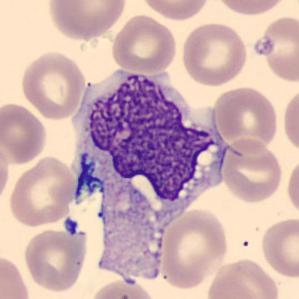Monocyte: (64, 67, 237, 283)
Platelets: (252, 35, 275, 58), (62, 217, 80, 236)
RBC: (158, 207, 230, 291), (7, 154, 78, 228), (18, 49, 88, 121), (21, 224, 90, 293), (179, 20, 249, 87), (212, 84, 280, 152), (220, 138, 284, 204), (110, 12, 178, 74), (44, 0, 129, 41), (251, 15, 299, 86), (204, 256, 282, 299), (0, 100, 49, 166), (259, 216, 299, 279), (137, 0, 212, 22), (87, 277, 157, 299), (0, 252, 32, 299), (213, 0, 290, 17), (281, 86, 299, 158), (285, 156, 299, 219), (0, 139, 12, 206)
